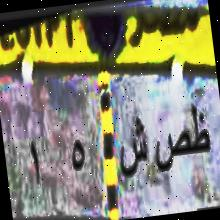1: (24, 132, 46, 194)
5: (64, 126, 88, 181)
Thaa: (186, 96, 214, 162)
saad: (150, 118, 196, 186)
sheen: (112, 115, 150, 184)
